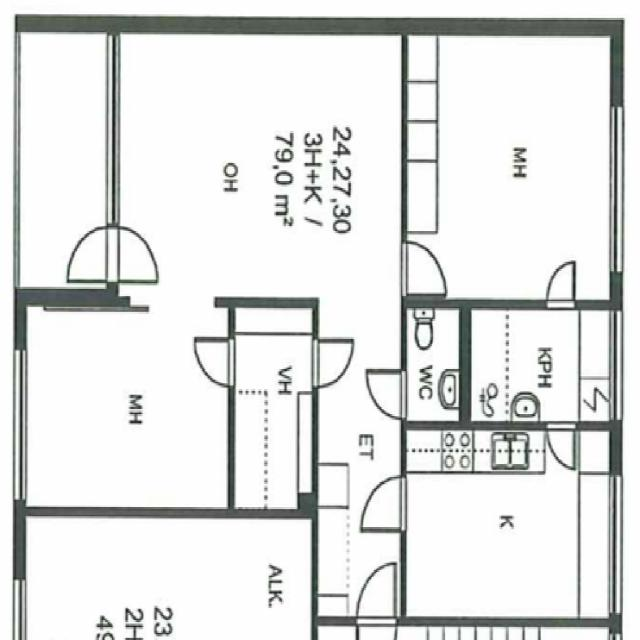door: (106, 226, 159, 282), (65, 226, 118, 282), (400, 242, 446, 296), (362, 475, 406, 528), (357, 564, 395, 624), (366, 370, 406, 418), (194, 338, 234, 384), (312, 339, 351, 385), (547, 260, 574, 308), (547, 421, 574, 466)
